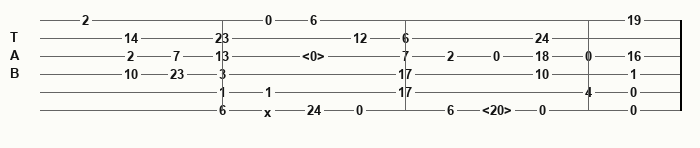0: (265, 13, 276, 27), (356, 103, 367, 117), (493, 49, 504, 63), (539, 103, 550, 117), (585, 49, 596, 63), (630, 85, 641, 99), (630, 103, 641, 117)
1: (219, 85, 230, 99), (265, 85, 276, 99), (630, 67, 641, 81)
10: (124, 67, 142, 81), (535, 67, 553, 81)
12: (353, 31, 371, 45)
13: (215, 49, 233, 63)
14: (124, 31, 142, 45)
16: (627, 49, 645, 63)
17: (398, 85, 416, 99), (398, 67, 416, 81)
18: (535, 49, 553, 63)
19: (627, 13, 645, 27)
2: (82, 13, 93, 27), (127, 49, 138, 63), (447, 49, 458, 63)
23: (170, 67, 188, 81), (215, 31, 233, 45)
24: (307, 103, 325, 117), (535, 31, 553, 45)
3: (219, 67, 230, 81)
4: (585, 85, 596, 99)
6: (219, 103, 230, 117), (310, 13, 321, 27), (402, 31, 413, 45), (447, 103, 458, 117)
7: (173, 49, 184, 63), (402, 49, 413, 63)
harmonic: (482, 103, 516, 117), (302, 49, 329, 63)
x: (264, 105, 276, 116)
